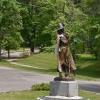Statue: (43, 17, 86, 79)
